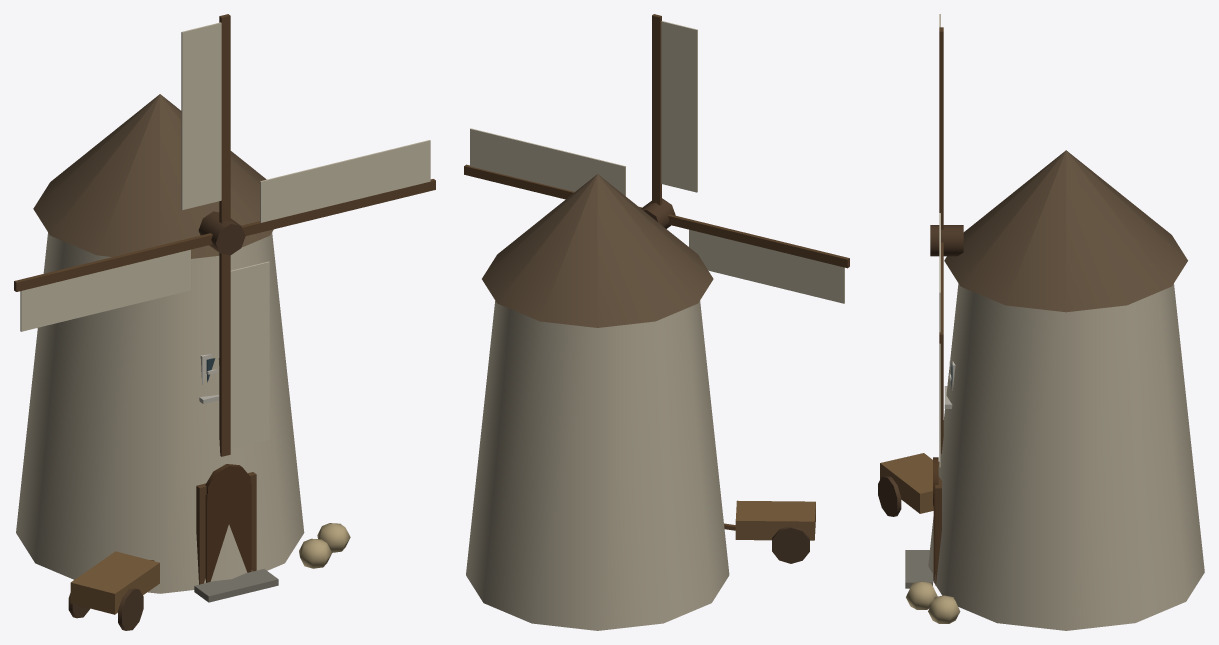
The model's file is procedural_windmill@3.glb.
3 views of the same model, side by side, from view 1: azimuth 30°, elevation 25°; view 2: azimuth 150°, elevation 25°; view 3: azimuth 270°, elevation 25° (orthographic). The views are drawn at different scales.
Parts seen in each view (by area): view 1: part_0, part_1; view 2: part_0, part_1; view 3: part_0, part_1.
Boxes of the visible parts, left/top/right/bottom form: part_0: left=16, top=94, right=350, bottom=630; part_1: left=14, top=14, right=435, bottom=456; part_0: left=466, top=174, right=815, bottom=630; part_1: left=464, top=14, right=849, bottom=303; part_0: left=878, top=150, right=1204, bottom=630; part_1: left=930, top=14, right=963, bottom=467.
Size of the model in its own units: 8.4 by 10.8 by 5.89.
